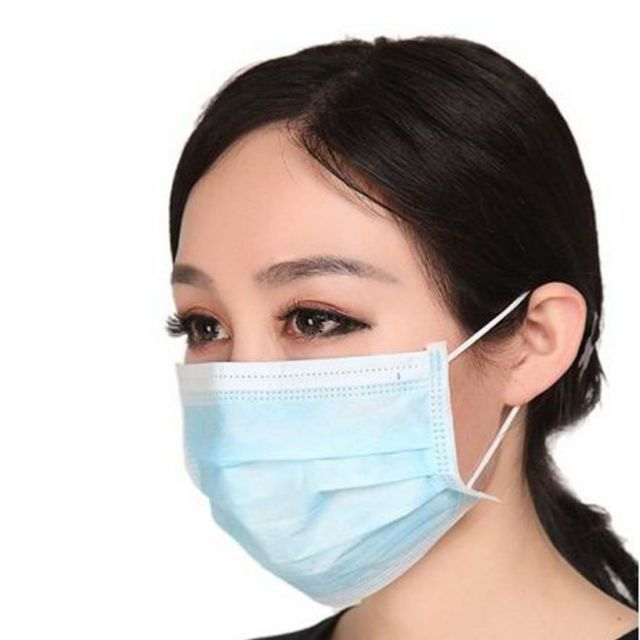mask: (155, 362, 478, 564)
